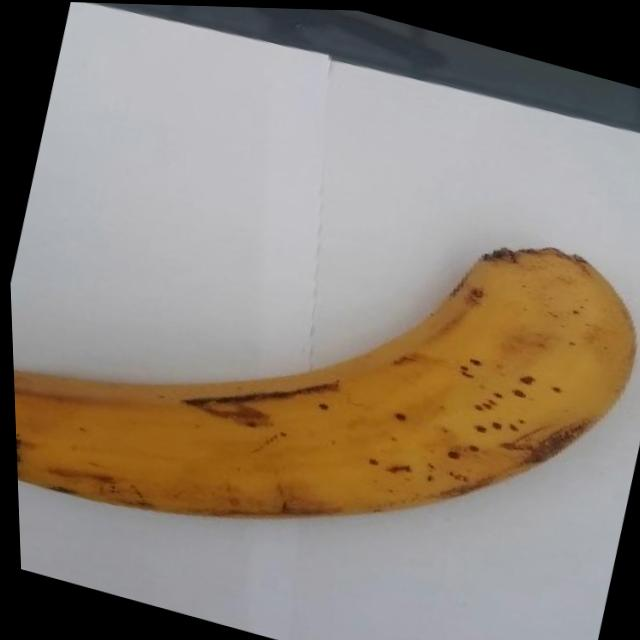Banana: (3, 106, 640, 636)
